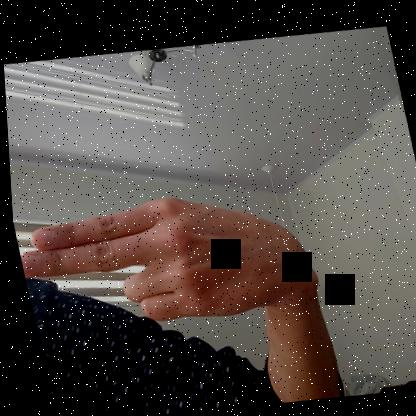H: (8, 166, 325, 347)
